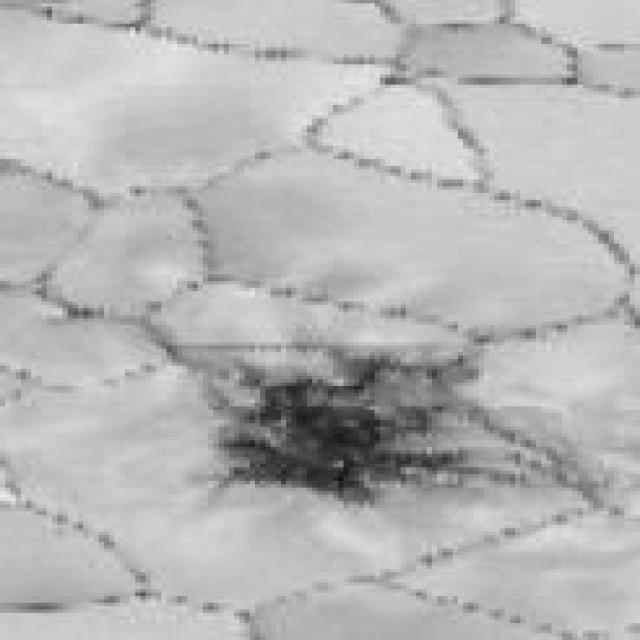good_void: (196, 341, 488, 511)
